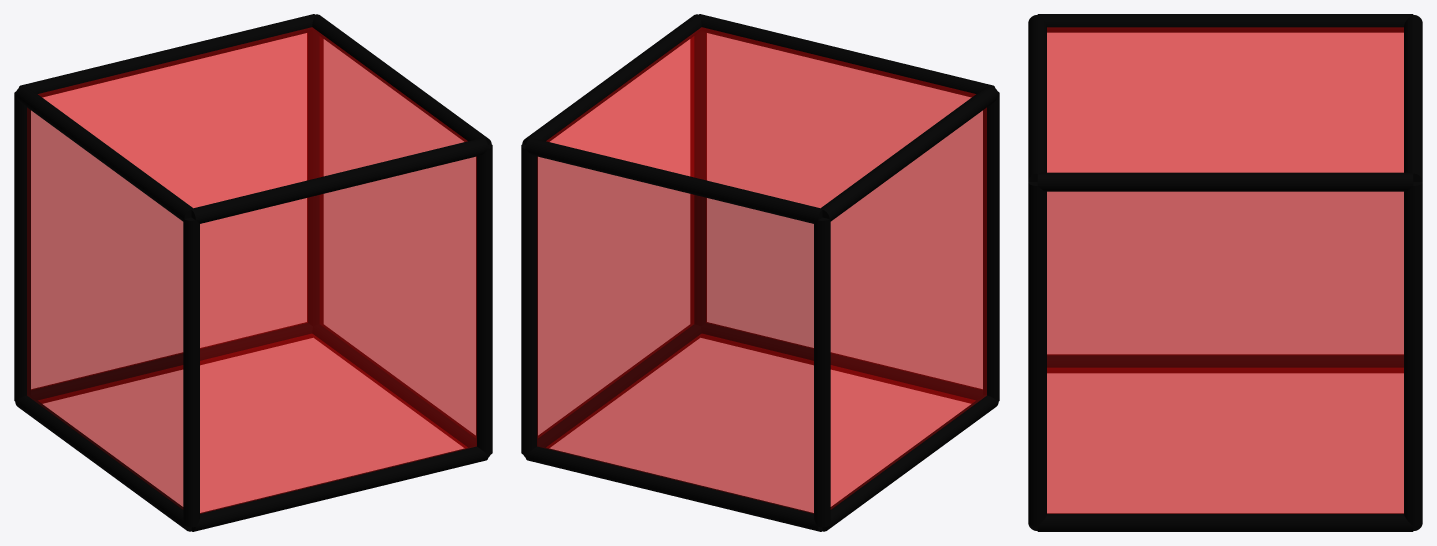
File: thecube.fbx
The picture shows the model from 3 angles, left to right: view 1: azimuth 30°, elevation 25°; view 2: azimuth 150°, elevation 25°; view 3: azimuth 270°, elevation 25°; orthographic projection. The views are drawn at different scales.
Parts seen in each view (by area): view 1: ReferenceCube, EdgeLine.004, EdgeLine.008, EdgeLine, EdgeLine.009, EdgeLine.006, EdgeLine.011, EdgeLine.010, EdgeLine.002, EdgeLine.007, EdgeLine.003, EdgeLine.005 (+1 smaller); view 2: ReferenceCube, EdgeLine.006, EdgeLine.011, EdgeLine.002, EdgeLine.010, EdgeLine.004, EdgeLine.008, EdgeLine.009, EdgeLine, EdgeLine.007, EdgeLine.003, EdgeLine.005 (+1 smaller); view 3: ReferenceCube, EdgeLine.005, EdgeLine.001, EdgeLine.007, EdgeLine.003, EdgeLine.009, EdgeLine.010, EdgeLine.004, EdgeLine.006.
Boxes of the visible parts, x1,y1,x2,y2 form: ReferenceCube: (27, 27, 476, 513); EdgeLine.004: (191, 138, 488, 223); EdgeLine.008: (183, 217, 199, 527); EdgeLine: (191, 446, 488, 531); EdgeLine.009: (476, 144, 492, 455); EdgeLine.006: (19, 14, 315, 97); EdgeLine.011: (14, 91, 30, 401); EdgeLine.010: (307, 31, 323, 326); EdgeLine.002: (31, 322, 312, 403); EdgeLine.007: (15, 86, 192, 221); EdgeLine.003: (15, 395, 191, 531); EdgeLine.005: (312, 14, 491, 144); ReferenceCube: (537, 27, 986, 513); EdgeLine.006: (525, 138, 822, 223); EdgeLine.011: (814, 217, 830, 527); EdgeLine.002: (525, 446, 822, 531); EdgeLine.010: (521, 144, 537, 455); EdgeLine.004: (698, 14, 994, 97); EdgeLine.008: (983, 91, 999, 401); EdgeLine.009: (690, 31, 706, 326); EdgeLine: (701, 322, 982, 403); EdgeLine.007: (821, 86, 998, 221); EdgeLine.003: (822, 395, 998, 531); EdgeLine.005: (522, 14, 701, 144); ReferenceCube: (1047, 27, 1403, 513); EdgeLine.005: (1037, 172, 1413, 191); EdgeLine.001: (1037, 513, 1413, 531); EdgeLine.007: (1037, 14, 1413, 32); EdgeLine.003: (1047, 354, 1403, 372); EdgeLine.009: (1028, 182, 1046, 526); EdgeLine.010: (1404, 182, 1422, 526); EdgeLine.004: (1028, 15, 1046, 181); EdgeLine.006: (1404, 15, 1422, 181).
Bounding box in the file's own units: 210 × 210 × 210.
